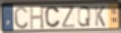C: (13, 5, 30, 30), (44, 6, 61, 29)
H: (29, 5, 45, 30)
K: (94, 5, 106, 28)
Q: (77, 5, 92, 28)
Z: (61, 5, 76, 29)
